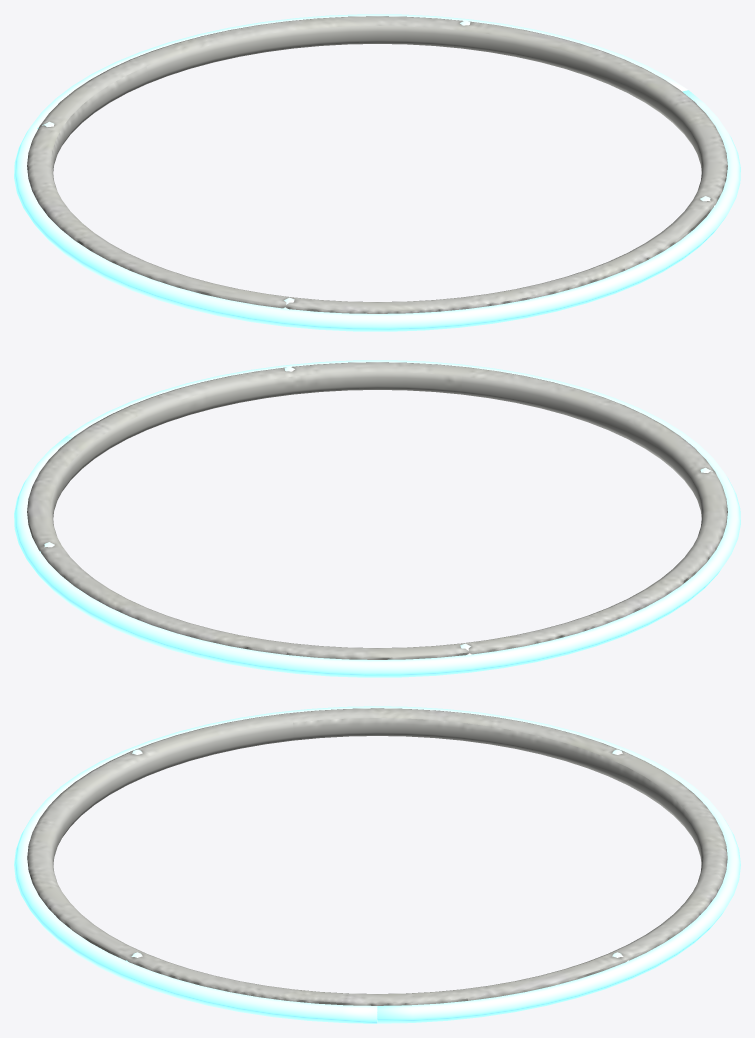
File: badge_sf_ring_inner.glb
The picture shows the model from 3 angles, top to bottom: view 1: azimuth 30°, elevation 25°; view 2: azimuth 150°, elevation 25°; view 3: azimuth 270°, elevation 25°; orthographic projection.
Visible parts, largest first — view 1: badge_sf_ring_inner, badge_sf_ring_inner_glow; view 2: badge_sf_ring_inner, badge_sf_ring_inner_glow; view 3: badge_sf_ring_inner, badge_sf_ring_inner_glow.
Boxes of the visible parts, <box> form: badge_sf_ring_inner: <box>27,16,727,313</box>; badge_sf_ring_inner_glow: <box>14,14,740,331</box>; badge_sf_ring_inner: <box>27,362,727,659</box>; badge_sf_ring_inner_glow: <box>14,360,740,677</box>; badge_sf_ring_inner: <box>27,708,727,1005</box>; badge_sf_ring_inner_glow: <box>14,706,740,1023</box>.
Bounding box in the file's own units: 1.21 × 0.052 × 1.21.
2 materials, 1 textured.
